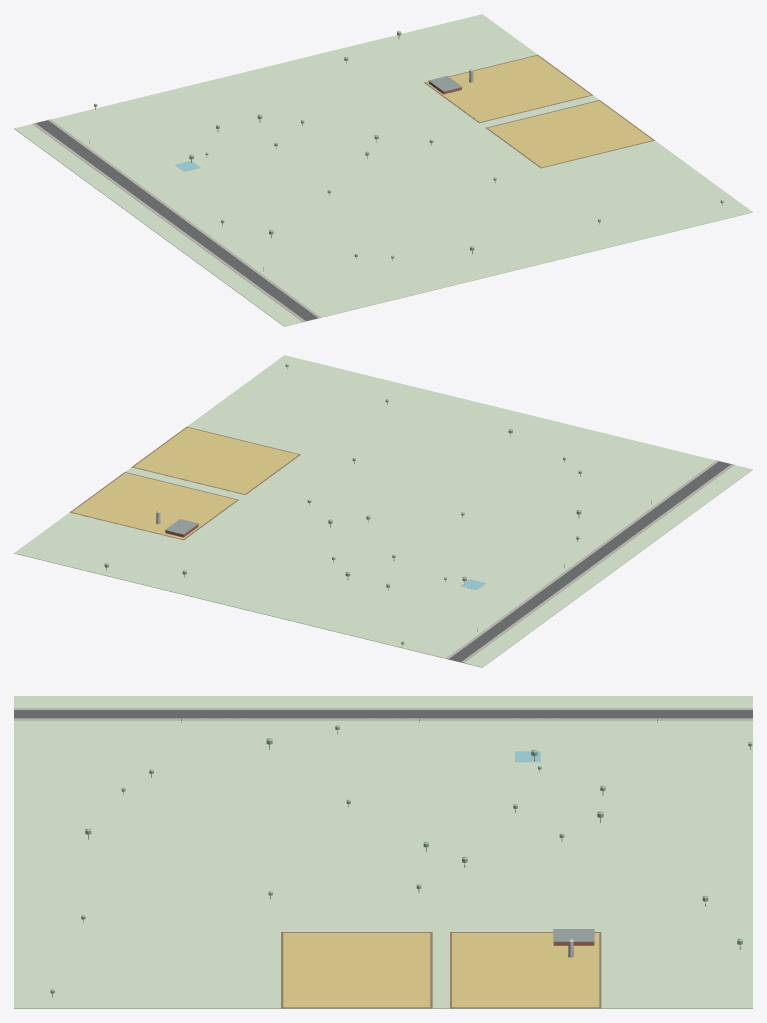
The model's file is chunk_4_1_low.glb.
3 renders of one model, top to bottom at view 1: azimuth 30°, elevation 25°; view 2: azimuth 150°, elevation 25°; view 3: azimuth 270°, elevation 25°, orthographic. The views are drawn at different scales.
Parts seen in each view (by area): view 1: city_grass, city_field_wheat, city_world_asphalt, city_world_sidewalk, city_field_soil, city_curb; view 2: city_grass, city_field_wheat, city_world_asphalt, city_world_sidewalk, city_field_soil, city_curb; view 3: city_grass, city_field_wheat, city_world_asphalt, city_world_sidewalk, city_field_soil, city_curb, city_foliage_dark, city_roof_slate.
Part boxes in pixels (left/top/right/bottom): city_grass: left=14, top=14, right=752, bottom=326; city_field_wheat: left=426, top=55, right=652, bottom=167; city_world_asphalt: left=35, top=120, right=317, bottom=320; city_world_sidewalk: left=32, top=119, right=320, bottom=321; city_field_soil: left=424, top=54, right=654, bottom=168; city_curb: left=35, top=120, right=317, bottom=320; city_grass: left=14, top=355, right=752, bottom=667; city_field_wheat: left=72, top=427, right=298, bottom=539; city_world_asphalt: left=449, top=461, right=731, bottom=661; city_world_sidewalk: left=446, top=460, right=734, bottom=662; city_field_soil: left=69, top=426, right=300, bottom=540; city_curb: left=449, top=461, right=731, bottom=661; city_grass: left=14, top=696, right=752, bottom=1008; city_field_wheat: left=283, top=933, right=599, bottom=1007; city_world_asphalt: left=14, top=710, right=752, bottom=718; city_world_sidewalk: left=14, top=708, right=752, bottom=720; city_field_soil: left=281, top=932, right=601, bottom=1008; city_curb: left=14, top=708, right=752, bottom=719; city_foliage_dark: left=50, top=725, right=752, bottom=993; city_roof_slate: left=553, top=929, right=594, bottom=942.
Size of the model in its own units: 512 by 13.26 by 512.
